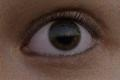eye: (48, 19, 81, 51)
